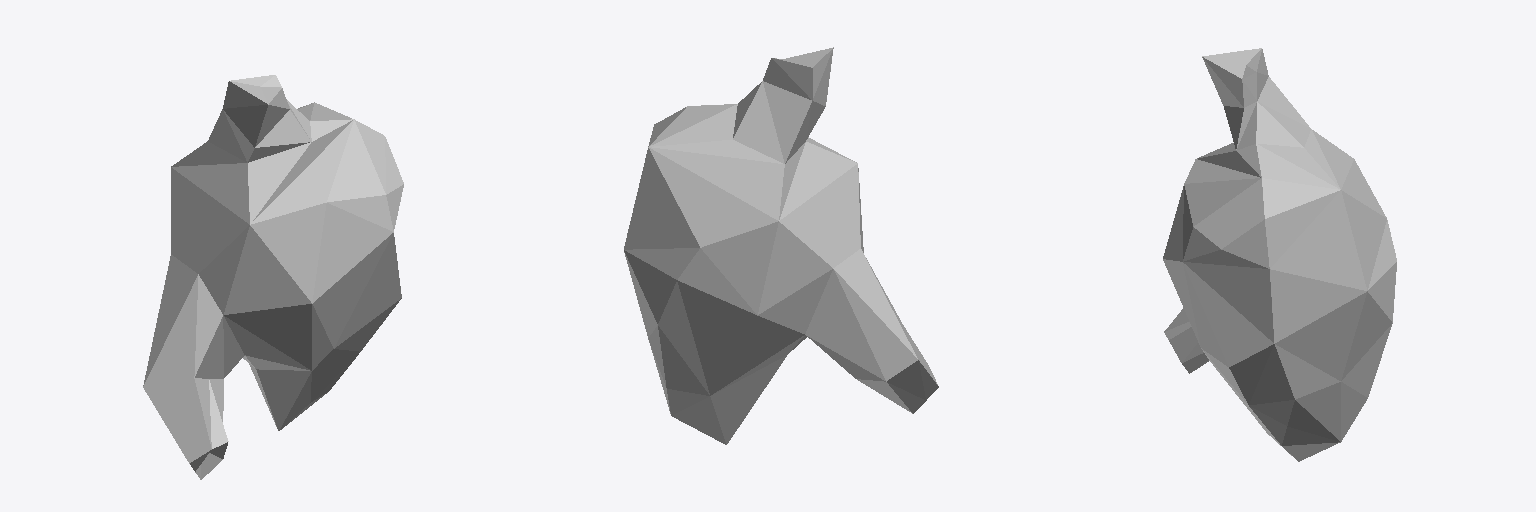
File: heart.obj
3 renders of one model, left to right at view 1: azimuth 30°, elevation 25°; view 2: azimuth 150°, elevation 25°; view 3: azimuth 270°, elevation 25°, orthographic.
Visible parts, largest first — view 1: Cube; view 2: Cube; view 3: Cube.
Part boxes in pixels (left/top/right/bottom): Cube: left=143, top=75, right=403, bottom=479; Cube: left=624, top=47, right=938, bottom=444; Cube: left=1163, top=48, right=1396, bottom=461.
Bounding box in the file's own units: 2.3 × 3.18 × 1.77.